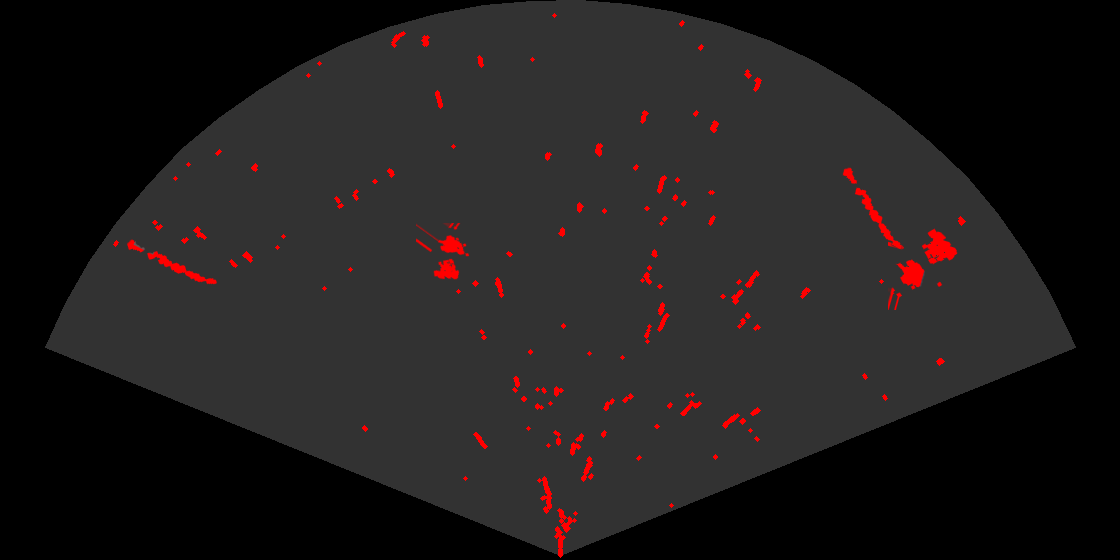cage: (888, 227, 959, 310), (416, 223, 471, 281)
chain: (841, 166, 903, 251), (125, 238, 219, 286)
